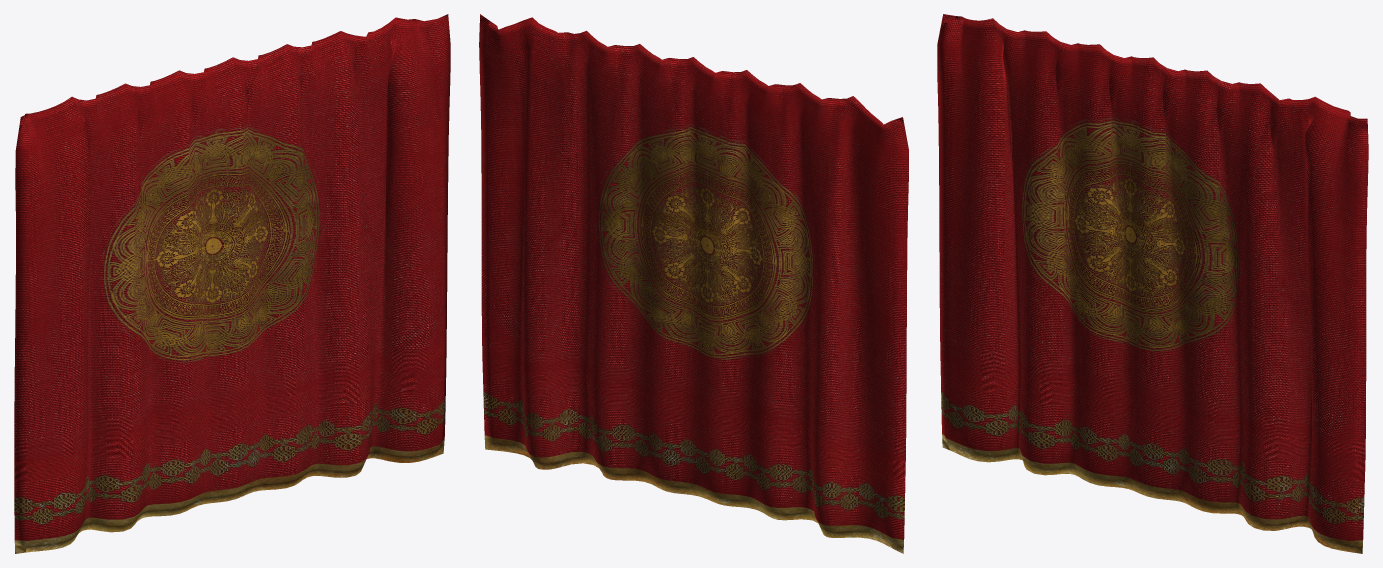
Rendered from sponza_323.gltf.
3 renders of one model, left to right at view 1: azimuth 30°, elevation 25°; view 2: azimuth 150°, elevation 25°; view 3: azimuth 330°, elevation 25°, orthographic.
Visible parts, largest first — view 1: sponza_323; view 2: sponza_323; view 3: sponza_323.
Boxes of the visible parts, <box> form: sponza_323: <box>14,14,450,553</box>; sponza_323: <box>479,14,908,553</box>; sponza_323: <box>937,14,1368,553</box>.
Size of the model in its own units: 287 by 283 by 24.58.
